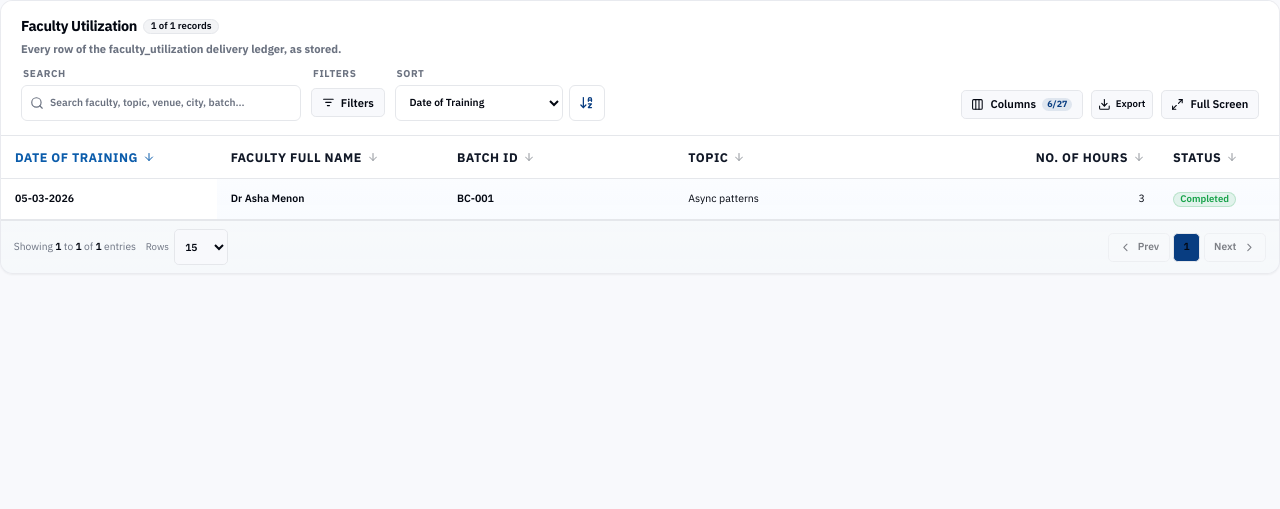
Test case: FacultyUtilizationView filter layout › reveals the available filters together when Filters is opened
Click the button "Filters": [348, 103] box left=311, top=88, right=384, bottom=117
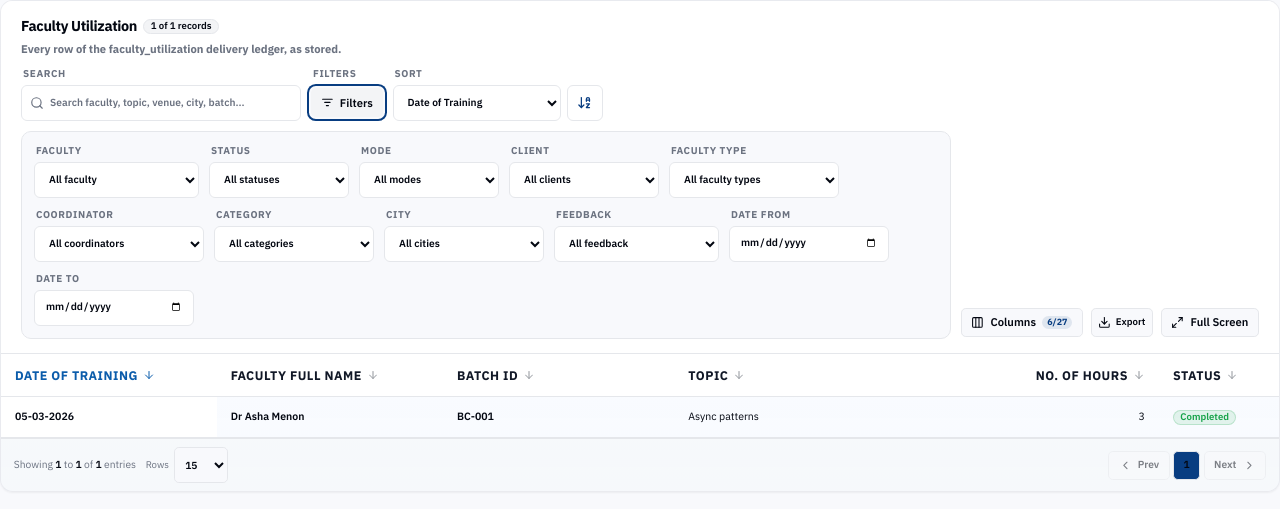
Check: the button "Filters" is expanded, box left=311, top=88, right=382, bottom=117
Check: the dropdown labelled "Faculty" is shown, box left=34, top=162, right=199, bottom=198
Check: the dropdown labelled "Status" is shown, box left=209, top=162, right=349, bottom=198
